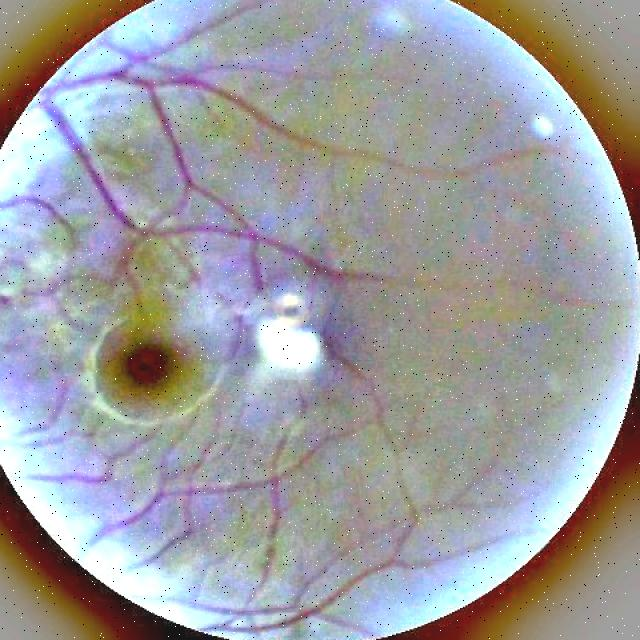Nerves: (92, 325, 420, 633), (37, 51, 383, 295), (28, 424, 155, 484), (25, 375, 71, 447), (0, 191, 73, 232)
